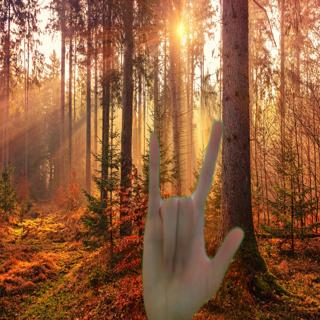ILY: (136, 117, 246, 320)
